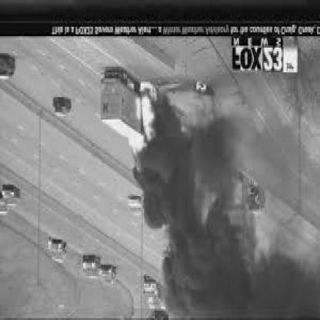Smoke: (142, 122, 257, 320), (258, 259, 315, 317)
